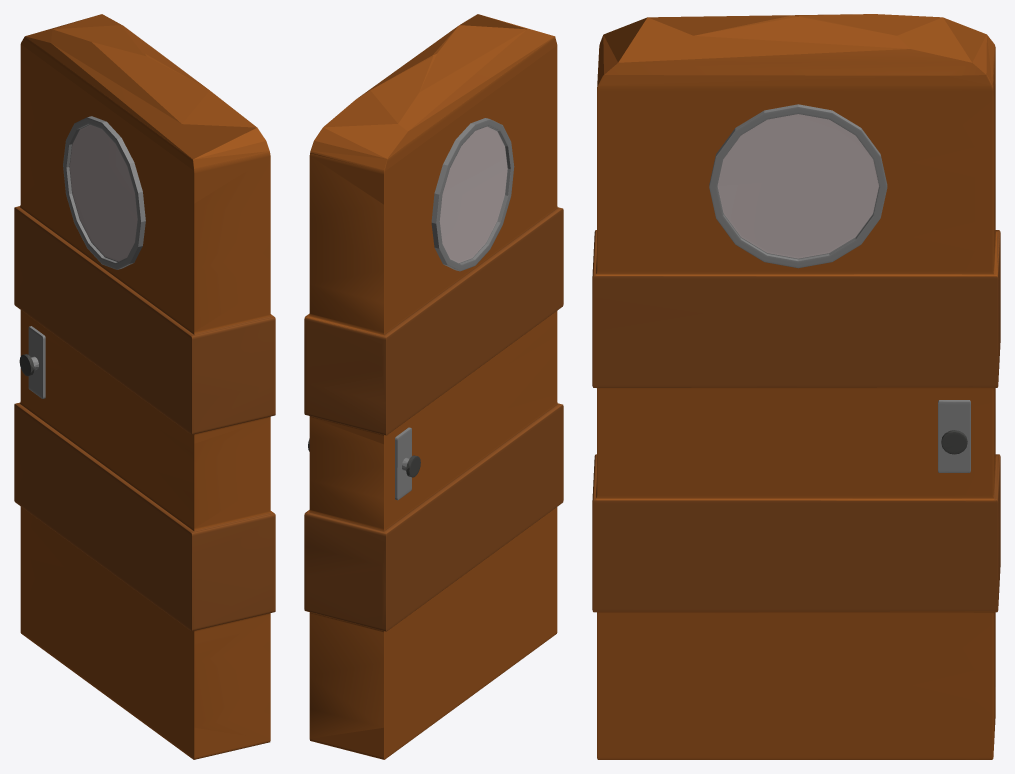
File: SM_Door.fbx
The picture shows the model from 3 angles, left to right: view 1: azimuth 30°, elevation 25°; view 2: azimuth 150°, elevation 25°; view 3: azimuth 270°, elevation 25°; orthographic projection. The views are drawn at different scales.
Parts seen in each view (by area): view 1: SM_door, SM_door.001, SM_door.002; view 2: SM_door, SM_door.001, SM_door.002; view 3: SM_door, SM_door.001, SM_door.002.
Part boxes in pixels (bbox=[...]): SM_door: bbox=[14, 14, 275, 759]; SM_door.001: bbox=[63, 116, 145, 269]; SM_door.002: bbox=[19, 326, 45, 398]; SM_door: bbox=[304, 14, 563, 759]; SM_door.001: bbox=[431, 118, 514, 271]; SM_door.002: bbox=[308, 427, 420, 500]; SM_door: bbox=[592, 14, 1000, 759]; SM_door.001: bbox=[709, 104, 887, 268]; SM_door.002: bbox=[938, 400, 970, 472].
Bounding box in the file's own units: 33.72 × 200 × 102.
